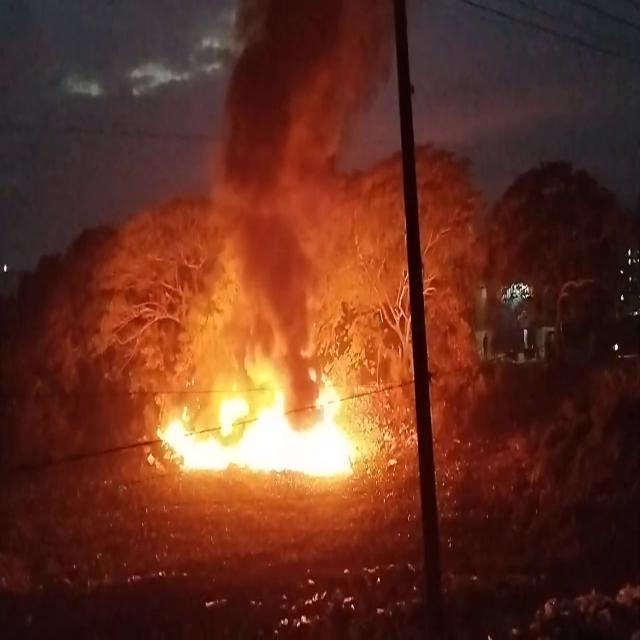Fire: (144, 328, 386, 490)
Smoke: (196, 2, 384, 315)
